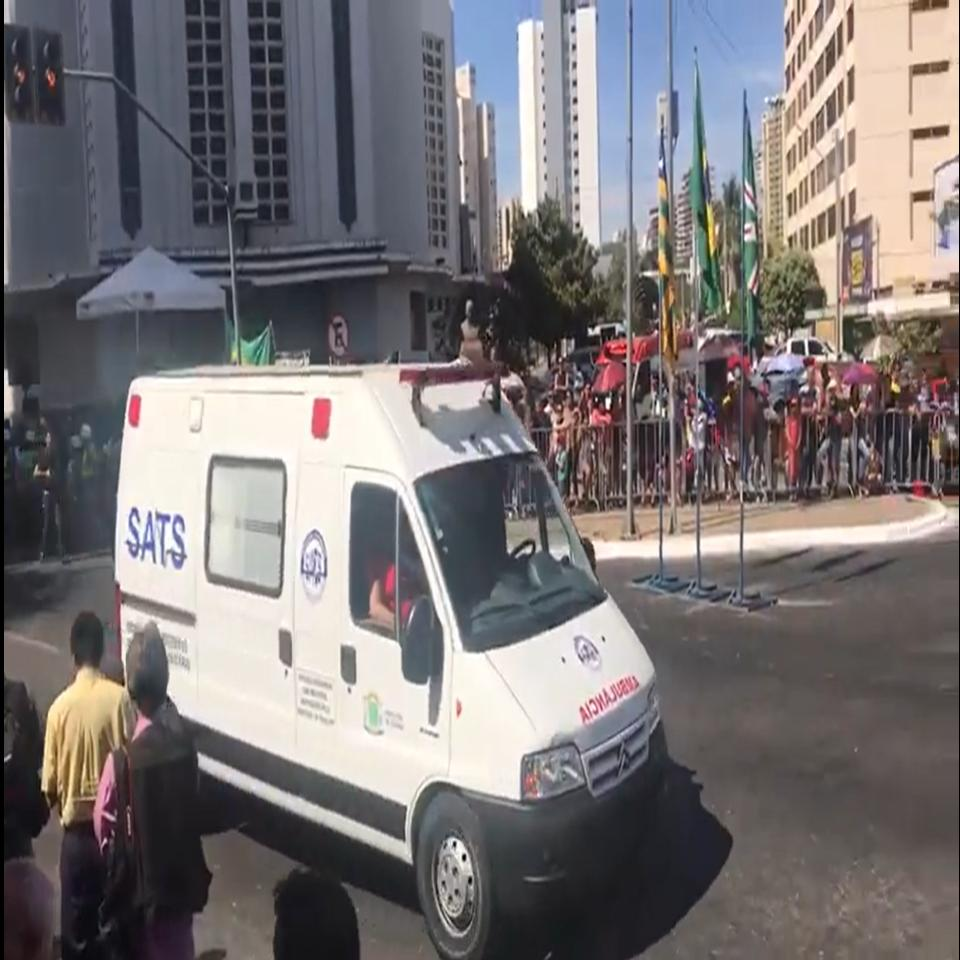bombeiro: (210, 349, 668, 960)
